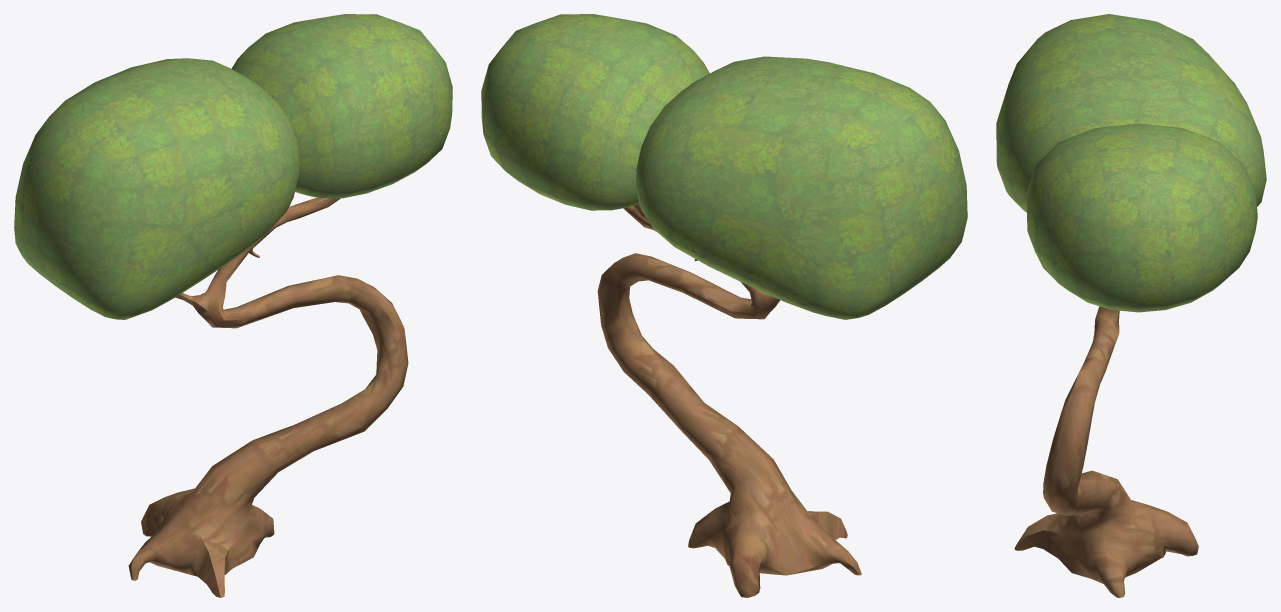
File: Tree_Big_Curved_01.fbx
3 views of the same model, side by side, from view 1: azimuth 30°, elevation 25°; view 2: azimuth 150°, elevation 25°; view 3: azimuth 270°, elevation 25° (orthographic). The views are drawn at different scales.
Visible parts, largest first — view 1: Tree_Big_Curved_01; view 2: Tree_Big_Curved_01; view 3: Tree_Big_Curved_01.
Boxes of the visible parts, x1=… form: Tree_Big_Curved_01: x1=14, y1=14, x2=452, y2=597; Tree_Big_Curved_01: x1=481, y1=14, x2=967, y2=597; Tree_Big_Curved_01: x1=996, y1=14, x2=1266, y2=597.
Bounding box in the file's own units: 566 × 624 × 303.
